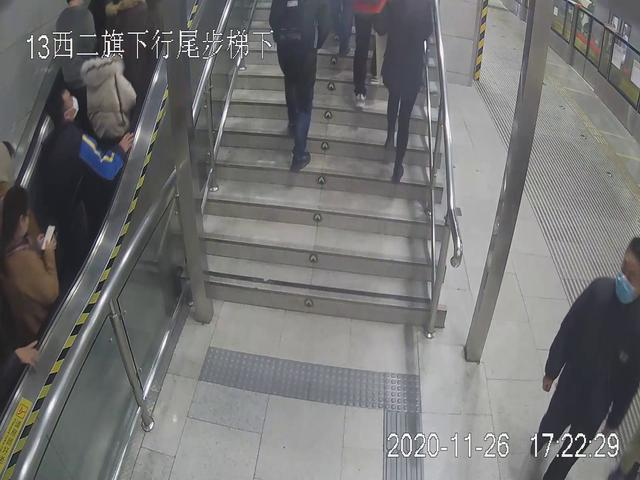person: (535, 228, 640, 480), (247, 1, 344, 173), (33, 89, 130, 256), (371, 1, 445, 187)
